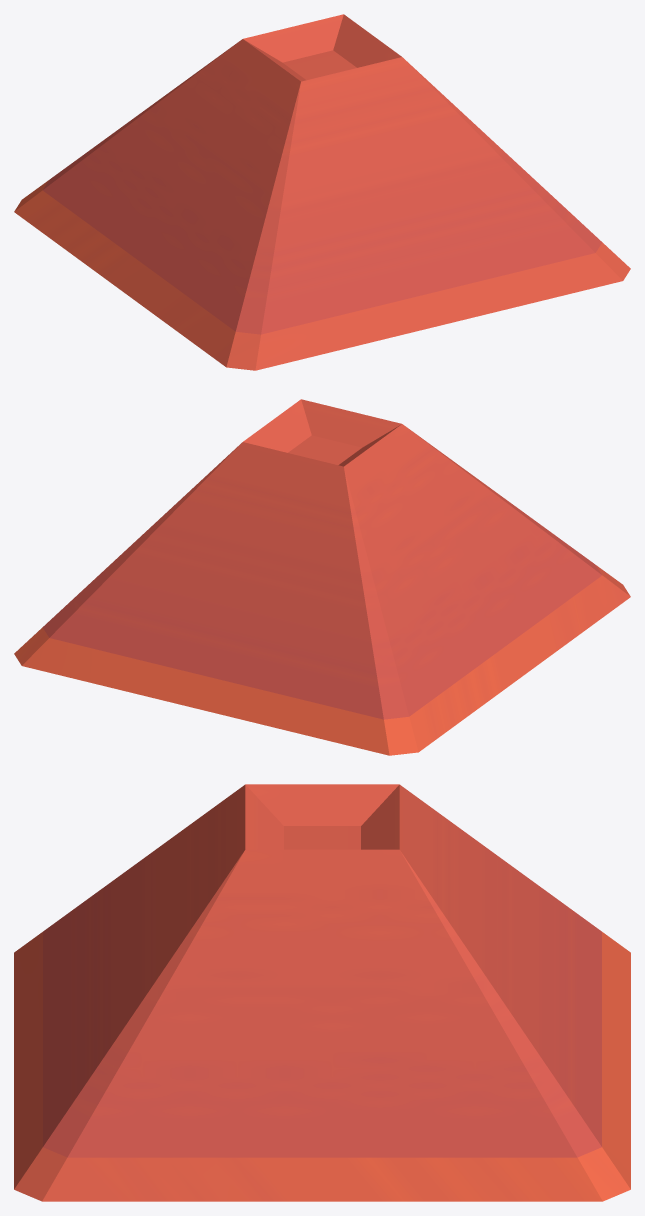
The model's file is roofPoint.fbx.
3 renders of one model, top to bottom at view 1: azimuth 30°, elevation 25°; view 2: azimuth 150°, elevation 25°; view 3: azimuth 270°, elevation 25°, orthographic. The views are drawn at different scales.
Parts seen in each view (by area): view 1: roofPoint; view 2: roofPoint; view 3: roofPoint.
Boxes of the visible parts, x1,y1,x2,y2 form: roofPoint: (14, 14, 630, 370); roofPoint: (14, 399, 630, 755); roofPoint: (14, 784, 630, 1201).
Size of the model in its own units: 1.1 by 1.1 by 0.5.
